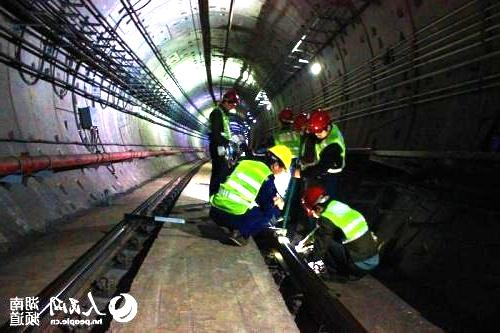helmet: (261, 144, 292, 178), (300, 186, 330, 218), (307, 108, 332, 139), (278, 108, 294, 131), (222, 92, 240, 112)
